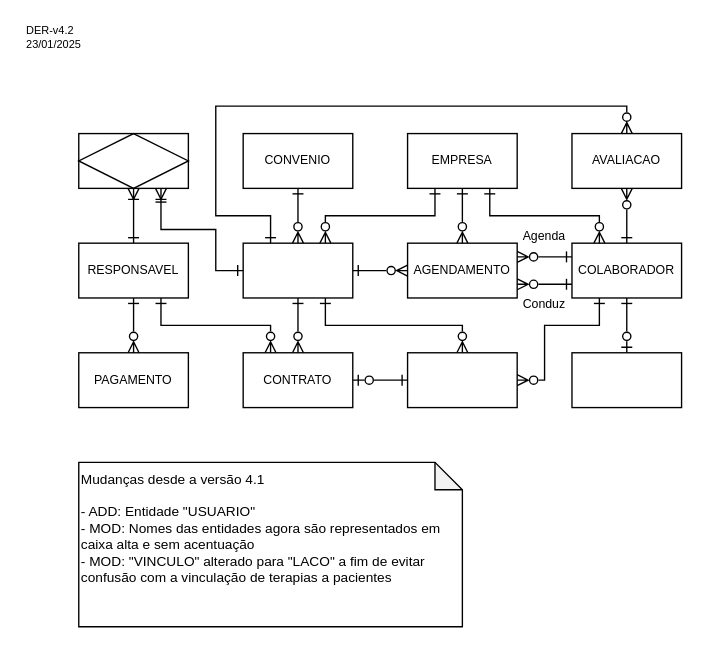
This 706x651 diagram has some shape labels left out. The shapes that lost their labels are listed below. From the top down, each one's centre as x and y in pixels, then its label:
(132,160): LACO
(297,270): PACIENTE
(461,379): DOCUMENTO
(626,379): USUARIO
